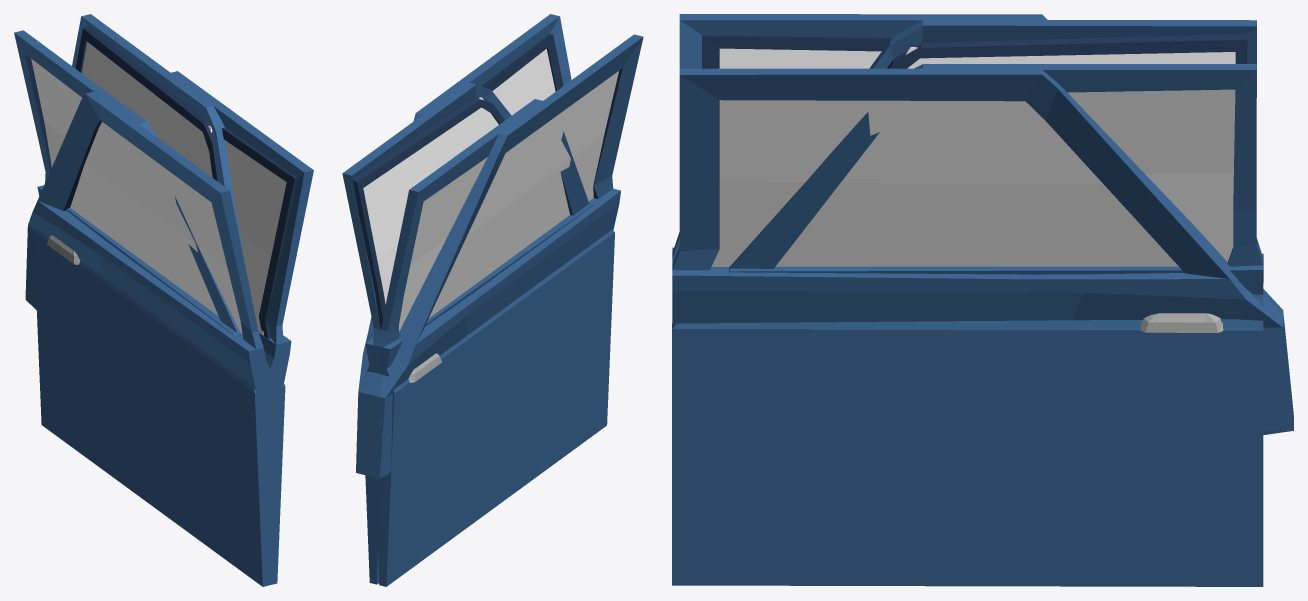
Rendered from Doors_T2.fbx.
The picture shows the model from 3 angles, left to right: view 1: azimuth 30°, elevation 25°; view 2: azimuth 150°, elevation 25°; view 3: azimuth 270°, elevation 25°; orthographic projection. The views are drawn at different scales.
Visible parts, largest first — view 1: f_r_door_t2, b_l_door_t2, b_r_door_t2, f_l_door_t2; view 2: f_r_door_t2, b_l_door_t2, f_l_door_t2, b_r_door_t2; view 3: f_l_door_t2, b_r_door_t2, f_r_door_t2, b_l_door_t2.
Part boxes in pixels (<box>): f_r_door_t2: <box>33,14,269,586</box>; b_l_door_t2: <box>25,91,276,584</box>; b_r_door_t2: <box>169,71,313,573</box>; f_l_door_t2: <box>14,30,285,584</box>; f_r_door_t2: <box>342,83,614,586</box>; b_l_door_t2: <box>363,34,643,478</box>; f_l_door_t2: <box>365,99,593,584</box>; b_r_door_t2: <box>356,14,571,476</box>; f_l_door_t2: <box>672,19,1263,586</box>; b_r_door_t2: <box>672,68,1293,434</box>; f_r_door_t2: <box>729,64,1263,294</box>; b_l_door_t2: <box>672,14,1293,424</box>.
Size of the model in its own units: 19.41 by 79.69 by 83.73.
